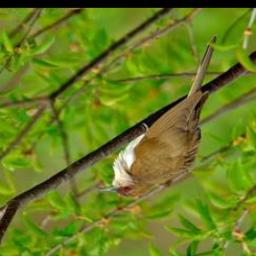Cuckoo: (98, 34, 218, 201)
